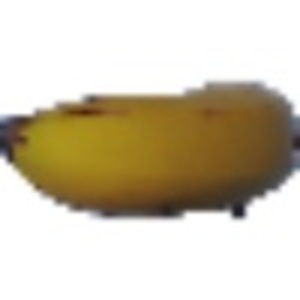banana: (3, 66, 295, 225)
